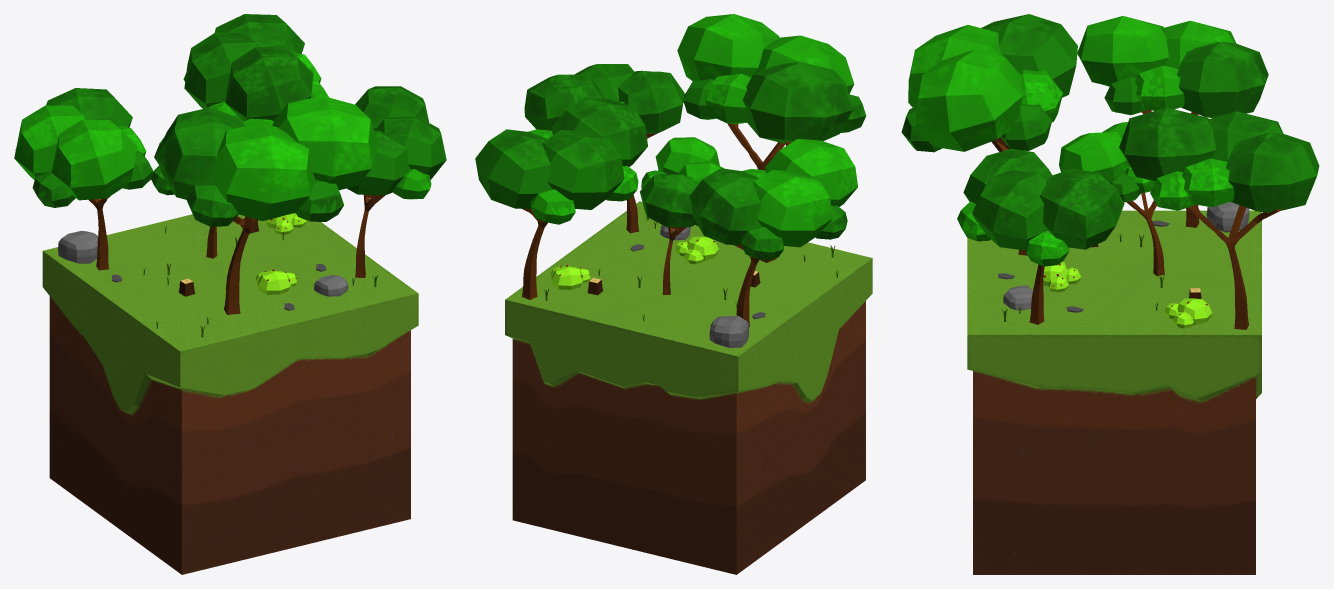
Rendered from Concepts_7.fbx.
3 renders of one model, left to right at view 1: azimuth 30°, elevation 25°; view 2: azimuth 150°, elevation 25°; view 3: azimuth 270°, elevation 25°, orthographic. The views are drawn at different scales.
Visible parts, largest first — view 1: Cube.093, Cube.101, Cube.102, Cube.103, Cube.100, Cube.097, Cube.099, Cube.104, Cube.094, Cube.095; view 2: Cube.093, Cube.101, Cube.103, Cube.102, Cube.100, Cube.104, Cube.097, Cube.099, Cube.095; view 3: Cube.093, Cube.101, Cube.103, Cube.102, Cube.100, Cube.104, Cube.095, Cube.097, Cube.099, Cube.094.
Part boxes in pixels (<box>): Cube.093: <box>42,214,418,574</box>; Cube.101: <box>155,95,378,314</box>; Cube.102: <box>14,88,152,270</box>; Cube.103: <box>183,14,328,122</box>; Cube.100: <box>347,86,446,277</box>; Cube.097: <box>58,230,98,263</box>; Cube.099: <box>256,269,296,294</box>; Cube.104: <box>151,138,217,258</box>; Cube.094: <box>314,275,348,296</box>; Cube.095: <box>265,213,306,234</box>; Cube.093: <box>505,201,872,574</box>; Cube.101: <box>677,14,866,262</box>; Cube.103: <box>475,97,647,299</box>; Cube.102: <box>689,139,857,326</box>; Cube.100: <box>524,64,684,233</box>; Cube.104: <box>640,137,724,294</box>; Cube.097: <box>709,315,748,347</box>; Cube.099: <box>675,236,718,264</box>; Cube.095: <box>550,265,590,289</box>; Cube.093: <box>967,210,1261,574</box>; Cube.101: <box>901,14,1077,255</box>; Cube.103: <box>1119,107,1319,329</box>; Cube.102: <box>1077,16,1268,227</box>; Cube.100: <box>957,148,1124,324</box>; Cube.104: <box>1059,122,1164,276</box>; Cube.095: <box>1164,298,1211,328</box>; Cube.097: <box>1206,201,1249,232</box>; Cube.099: <box>1043,262,1080,292</box>; Cube.094: <box>1003,285,1032,310</box>.
Size of the model in its own units: 452 by 528 by 427.
